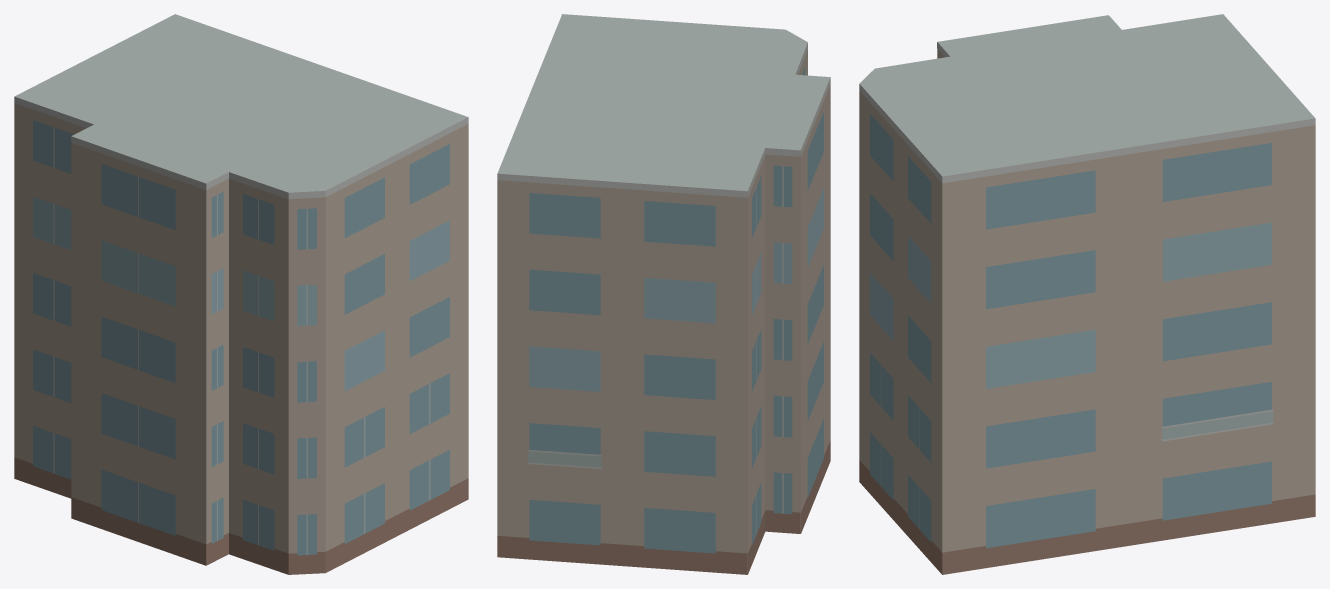
Rendered from survey-upis-32864789.glb.
3 renders of one model, left to right at view 1: azimuth 30°, elevation 25°; view 2: azimuth 150°, elevation 25°; view 3: azimuth 270°, elevation 25°, orthographic. The views are drawn at different scales.
Parts seen in each view (by area): view 1: survey-upis-32864789.tmp; view 2: survey-upis-32864789.tmp; view 3: survey-upis-32864789.tmp.
Boxes of the visible parts, x1,y1,x2,y2 form: survey-upis-32864789.tmp: [14, 14, 468, 574]; survey-upis-32864789.tmp: [497, 14, 830, 574]; survey-upis-32864789.tmp: [859, 14, 1315, 574].
Bounding box in the file's own units: 12.57 × 14.35 × 14.91.
